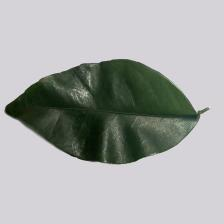healthy: (3, 59, 200, 166)
